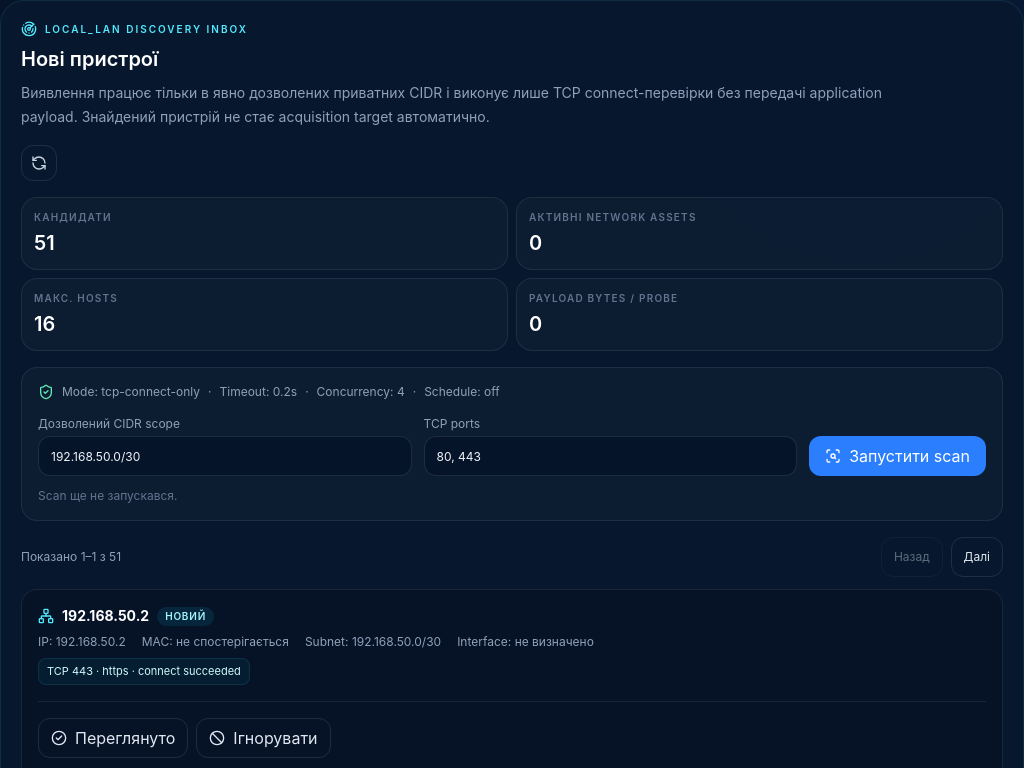
Test: EquipmentDiscoveryInbox › paginates the candidate inbox through the repository contract
Expected: the text "192.168.50.2" is shown, [62,606,149,626]
Expected: the text "Показано 1–1 з 51" is shown, [21,549,121,565]
Click the button "Далі": (977, 557) [951,537,1003,577]
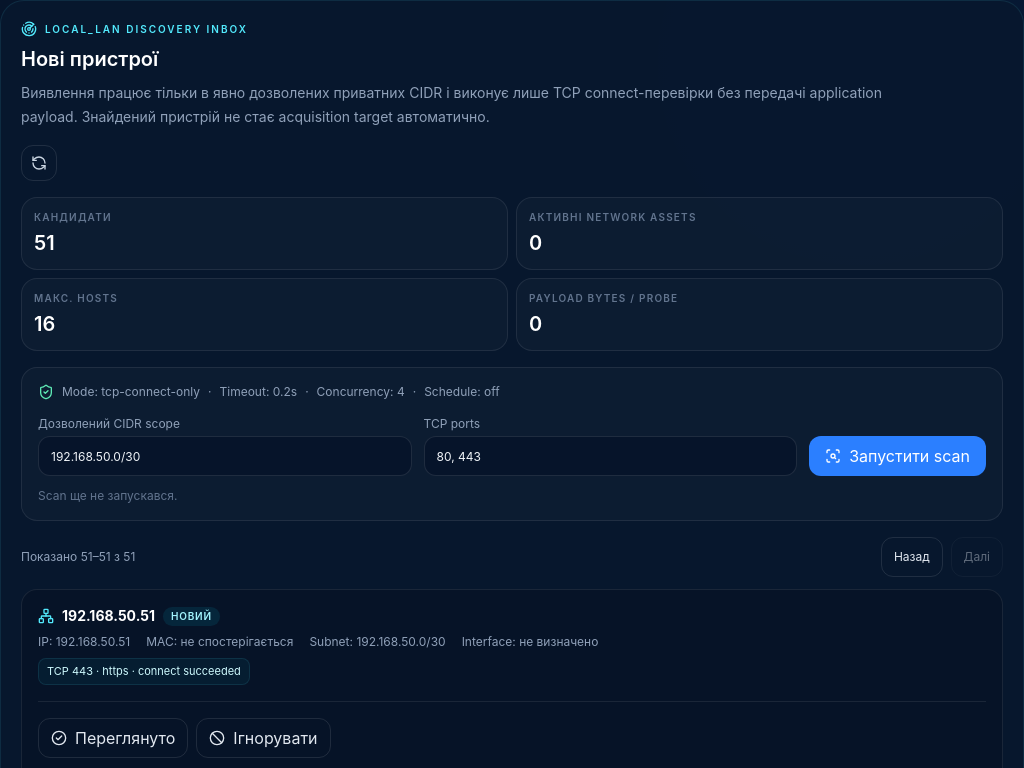
Expected: the text "192.168.50.51" is shown, [62,606,155,626]
Expected: the text "Показано 51–51 з 51" is shown, [21,549,135,565]
